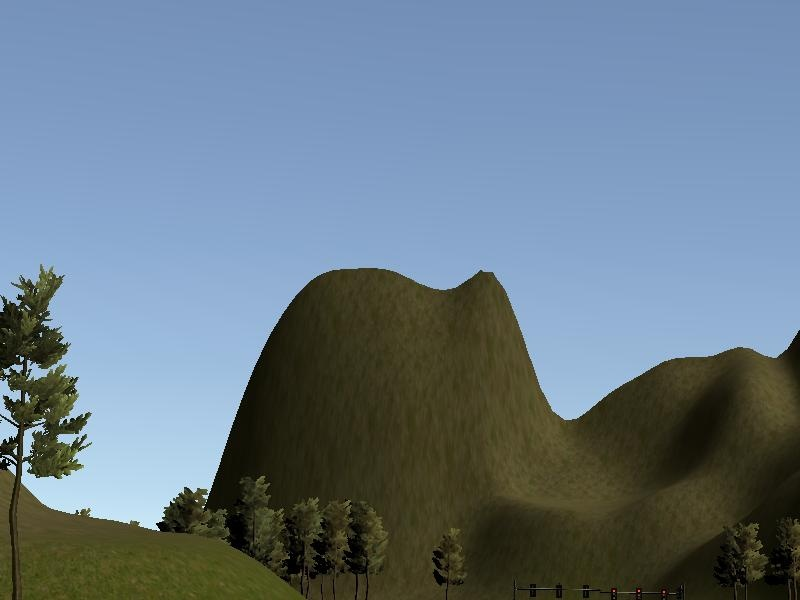Red: (611, 588, 617, 600), (636, 588, 642, 600), (661, 588, 667, 600)
